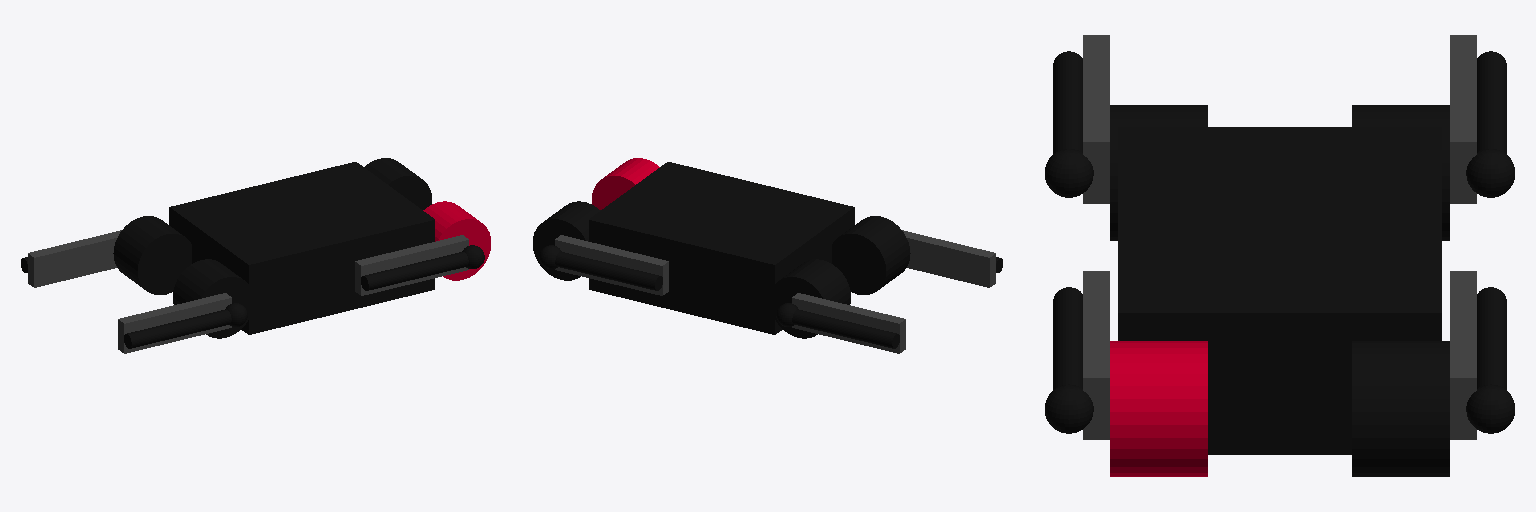
The robot description file, URDF, robot "new_platform":
<?xml version="1.0" ?>
<!-- =================================================================================== -->
<!-- |    This document was autogenerated by xacro from new_platform.urdf.xacro        | -->
<!-- |    EDITING THIS FILE BY HAND IS NOT RECOMMENDED                                 | -->
<!-- =================================================================================== -->
<!-- 
MIT License (modified)

Copyright (c) 2020 Ghost Robotics
Authors:
[author] <[email redacted]>
[author] <[email redacted]>

Permission is hereby granted, free of charge, to any person obtaining a copy
of this **file** (the "Software"), to deal
in the Software without restriction, including without limitation the rights
to use, copy, modify, merge, publish, distribute, sublicense, and/or sell
copies of the Software, and to permit persons to whom the Software is
furnished to do so, subject to the following conditions:

The above copyright notice and this permission notice shall be included in all
copies or substantial portions of the Software.

THE SOFTWARE IS PROVIDED "AS IS", WITHOUT WARRANTY OF ANY KIND, EXPRESS OR
IMPLIED, INCLUDING BUT NOT LIMITED TO THE WARRANTIES OF MERCHANTABILITY,
FITNESS FOR A PARTICULAR PURPOSE AND NONINFRINGEMENT. IN NO EVENT SHALL THE
AUTHORS OR COPYRIGHT [author] ANY CLAIM, DAMAGES OR OTHER
LIABILITY, WHETHER IN AN ACTION OF CONTRACT, TORT OR OTHERWISE, ARISING FROM,
OUT OF OR IN CONNECTION WITH THE SOFTWARE OR THE USE OR OTHER DEALINGS IN THE
SOFTWARE. 
-->
<robot name="new_platform">
  <!-- Define materials -->
  <material name="darkgray">
    <color rgba="0.1 0.1 0.1 1.0"/>
  </material>
  <material name="silver">
    <color rgba="0.3 0.3 0.3 1.0"/>
  </material>
  <material name="red">
    <color rgba="0.8 0.0 0.2 1.0"/>
  </material>
  <!-- Body -->
  <link name="body">
    <visual>
      <origin rpy="0 0 0" xyz="0 0 0"/>
      <geometry>
        <box size="0.3563 0.2627 0.1279"/>
      </geometry>
      <material name="darkgray"/>
    </visual>
    <inertial>
      <mass value="5.8656"/>
      <!-- Uniform box -->
      <!-- <inertia ixx="1/12*${bodyMass}*(${bodyWidth}*${bodyWidth} + ${bodyHeight}*${bodyHeight})"  ixy="0"  ixz="0" iyy="1/12*${bodyMass}*(${bodyLength}*${bodyLength} + ${bodyHeight}*${bodyHeight})" iyz="0" izz="1/12*${bodyMass}*(${bodyLength}*${bodyLength} + ${bodyWidth}*${bodyWidth})"/> -->
      <inertia ixx="0.013581" ixy="3.5039E-06" ixz="0.00015791" iyy="0.039554" iyz="-2.9696E-06" izz="0.031018"/>
    </inertial>
    <!-- Just copy geometry for collision -->
    <collision>
      <origin rpy="0 0 0" xyz="0 0 0"/>
      <geometry>
        <box size="0.3563 0.2627 0.1279"/>
      </geometry>
    </collision>
  </link>
  <!-- Hip motor -->
  <link name="hip0">
    <visual>
      <origin rpy="1.570796326795 0 0" xyz="0 0.028 0"/>
      <geometry>
        <cylinder length="0.08" radius="0.055"/>
      </geometry>
      <material name="darkgray"/>
    </visual>
    <collision>
      <origin rpy="1.570796326795 0 0" xyz="0 0.028 0"/>
      <geometry>
        <cylinder length="0.08" radius="0.055"/>
      </geometry>
    </collision>
    <inertial>
      <mass value="0.575"/>
      <!-- <inertia ixx="1/12*${podMass}*${podLength}*${podLength} + 1/4*${podMass}*${podRadius}*${podRadius}"  ixy="0"  ixz="0" iyy="1/12*${podMass}*${podLength}*${podLength} + 1/4*${podMass}*${podRadius}*${podRadius}" iyz="0" izz="1/2*${podMass}*${podRadius}*$
				{podRadius}" /> -->
      <inertia ixx="0.00066963541" ixy="0" ixz="0" iyy="0.00066963541" iyz="0" izz="0.0008696875"/>
    </inertial>
  </link>
  <!-- Abduction joint. Joint names are: 8 9 10 11 -->
  <joint name="8" type="revolute">
    <parent link="body"/>
    <child link="hip0"/>
    <axis xyz="1 0 0"/>
    <origin xyz="0.2263 0.07 0"/>
    <limit effort="40" lower="-0.707" upper="0.707" velocity="30"/>
    <dynamics damping="0.0" friction="0.0"/>
  </joint>
  <!-- Upper leg -->
  <link name="upper0">
    <visual>
      <origin rpy="0 0 0" xyz="-0.103 -0.022 0"/>
      <geometry>
        <box size="0.206 0.022 0.055"/>
      </geometry>
      <material name="silver"/>
    </visual>
    <collision>
      <origin rpy="0 0 0" xyz="-0.103 -0.022 0"/>
      <geometry>
        <box size="0.206 0.022 0.055"/>
      </geometry>
    </collision>
    <inertial>
      <mass value="2.823"/>
      <inertia ixx="0.0026851" ixy="-6.2823E-05" ixz="-0.0022535" iyy="0.010059" iyz="-8.5258E-05" izz="0.0076466"/>
    </inertial>
  </link>
  <!-- Hip joint. (Motor to upper leg). Joint names are: 0 2 4 6 -->
  <joint name="0" type="revolute">
    <parent link="hip0"/>
    <child link="upper0"/>
    <axis xyz="0 -1 0"/>
    <origin xyz="0 0.10098 0"/>
    <!--  rpy="0 -0.3 0" -->
    <limit effort="40" lower="-6.28318530718" upper="6.28318530718" velocity="30"/>
    <dynamics damping="0.0" friction="0.0"/>
  </joint>
  <!-- Lower leg -->
  <link name="lower0">
    <visual>
      <origin rpy="0 1.570796326795 0" xyz="0.103 0 0"/>
      <geometry>
        <cylinder length="0.206" radius="0.013"/>
      </geometry>
      <material name="darkgray"/>
    </visual>
    <collision>
      <origin rpy="0 1.570796326795 0" xyz="0.103 0 0"/>
      <geometry>
        <cylinder length="0.206" radius="0.013"/>
      </geometry>
    </collision>
    <inertial>
      <mass value="1.0526"/>
      <inertia ixx="0.00093898" ixy="-3.788E-05" ixz="1.0791E-05" iyy="0.00042016" iyz="0.00017591" izz="0.00055413"/>
    </inertial>
  </link>
  <!-- Knee joint. Joint names are: 1 3 5 7 -->
  <joint name="1" type="revolute">
    <parent link="upper0"/>
    <child link="lower0"/>
    <axis xyz="0 1 0"/>
    <origin xyz="-0.206 0 0"/>
    <!--rpy="0 0.5 0"-->
    <limit effort="40" lower="0" upper="3.14159265359" velocity="30"/>
    <dynamics damping="0.0" friction="0.0"/>
  </joint>
  <!-- Toe -->
  <link name="toe0">
    <contact>
      <friction_anchor/>
      <stiffness value="30000.0"/>
      <damping value="1000.0"/>
      <spinning_friction value="0.3"/>
      <lateral_friction value="3.0"/>
    </contact>
    <visual>
      <origin rpy="0 0 0" xyz="0 0 0"/>
      <geometry>
        <sphere radius="0.02"/>
      </geometry>
      <material name="darkgray"/>
    </visual>
    <collision>
      <origin rpy="0 0 0" xyz="0 0 0"/>
      <geometry>
        <sphere radius="0.02"/>
      </geometry>
    </collision>
    <inertial>
      <mass value="0.015"/>
      <inertia ixx="0.000025" ixy="0" ixz="0" iyy="0.000025" iyz="0" izz="0.000025"/>
      <!-- <inertia ixx="2/5*${toeMass}*${toeRadius}*${toeRadius}"  ixy="0"  ixz="0" iyy="2/5*${toeMass}*${toeRadius}*${toeRadius}" iyz="0" izz="2/5*${toeMass}*${toeRadius}*${toeRadius}" /> -->
    </inertial>
  </link>
  <joint name="jtoe0" type="fixed">
    <parent link="lower0"/>
    <child link="toe0"/>
    <origin xyz="0.206 0 -0.0"/>
    <dynamics damping="0.0" friction="0.0"/>
  </joint>
  <!-- Hip motor -->
  <link name="hip1">
    <visual>
      <origin rpy="1.570796326795 0 0" xyz="0 0.028 0"/>
      <geometry>
        <cylinder length="0.08" radius="0.055"/>
      </geometry>
      <material name="darkgray"/>
    </visual>
    <collision>
      <origin rpy="1.570796326795 0 0" xyz="0 0.028 0"/>
      <geometry>
        <cylinder length="0.08" radius="0.055"/>
      </geometry>
    </collision>
    <inertial>
      <mass value="0.575"/>
      <!-- <inertia ixx="1/12*${podMass}*${podLength}*${podLength} + 1/4*${podMass}*${podRadius}*${podRadius}"  ixy="0"  ixz="0" iyy="1/12*${podMass}*${podLength}*${podLength} + 1/4*${podMass}*${podRadius}*${podRadius}" iyz="0" izz="1/2*${podMass}*${podRadius}*$
				{podRadius}" /> -->
      <inertia ixx="0.00066963541" ixy="0" ixz="0" iyy="0.00066963541" iyz="0" izz="0.0008696875"/>
    </inertial>
  </link>
  <!-- Abduction joint. Joint names are: 8 9 10 11 -->
  <joint name="9" type="revolute">
    <parent link="body"/>
    <child link="hip1"/>
    <axis xyz="1 0 0"/>
    <origin xyz="-0.2263 0.07 0"/>
    <limit effort="40" lower="-0.707" upper="0.707" velocity="30"/>
    <dynamics damping="0.0" friction="0.0"/>
  </joint>
  <!-- Upper leg -->
  <link name="upper1">
    <visual>
      <origin rpy="0 0 0" xyz="-0.103 -0.022 0"/>
      <geometry>
        <box size="0.206 0.022 0.055"/>
      </geometry>
      <material name="silver"/>
    </visual>
    <collision>
      <origin rpy="0 0 0" xyz="-0.103 -0.022 0"/>
      <geometry>
        <box size="0.206 0.022 0.055"/>
      </geometry>
    </collision>
    <inertial>
      <mass value="2.823"/>
      <inertia ixx="0.0026851" ixy="-6.2823E-05" ixz="-0.0022535" iyy="0.010059" iyz="-8.5258E-05" izz="0.0076466"/>
    </inertial>
  </link>
  <!-- Hip joint. (Motor to upper leg). Joint names are: 0 2 4 6 -->
  <joint name="2" type="revolute">
    <parent link="hip1"/>
    <child link="upper1"/>
    <axis xyz="0 -1 0"/>
    <origin xyz="0 0.10098 0"/>
    <!--  rpy="0 -0.3 0" -->
    <limit effort="40" lower="-6.28318530718" upper="6.28318530718" velocity="30"/>
    <dynamics damping="0.0" friction="0.0"/>
  </joint>
  <!-- Lower leg -->
  <link name="lower1">
    <visual>
      <origin rpy="0 1.570796326795 0" xyz="0.103 0 0"/>
      <geometry>
        <cylinder length="0.206" radius="0.013"/>
      </geometry>
      <material name="darkgray"/>
    </visual>
    <collision>
      <origin rpy="0 1.570796326795 0" xyz="0.103 0 0"/>
      <geometry>
        <cylinder length="0.206" radius="0.013"/>
      </geometry>
    </collision>
    <inertial>
      <mass value="1.0526"/>
      <inertia ixx="0.00093898" ixy="-3.788E-05" ixz="1.0791E-05" iyy="0.00042016" iyz="0.00017591" izz="0.00055413"/>
    </inertial>
  </link>
  <!-- Knee joint. Joint names are: 1 3 5 7 -->
  <joint name="3" type="revolute">
    <parent link="upper1"/>
    <child link="lower1"/>
    <axis xyz="0 1 0"/>
    <origin xyz="-0.206 0 0"/>
    <!--rpy="0 0.5 0"-->
    <limit effort="40" lower="0" upper="3.14159265359" velocity="30"/>
    <dynamics damping="0.0" friction="0.0"/>
  </joint>
  <!-- Toe -->
  <link name="toe1">
    <contact>
      <friction_anchor/>
      <stiffness value="30000.0"/>
      <damping value="1000.0"/>
      <spinning_friction value="0.3"/>
      <lateral_friction value="3.0"/>
    </contact>
    <visual>
      <origin rpy="0 0 0" xyz="0 0 0"/>
      <geometry>
        <sphere radius="0.02"/>
      </geometry>
      <material name="darkgray"/>
    </visual>
    <collision>
      <origin rpy="0 0 0" xyz="0 0 0"/>
      <geometry>
        <sphere radius="0.02"/>
      </geometry>
    </collision>
    <inertial>
      <mass value="0.015"/>
      <inertia ixx="0.000025" ixy="0" ixz="0" iyy="0.000025" iyz="0" izz="0.000025"/>
      <!-- <inertia ixx="2/5*${toeMass}*${toeRadius}*${toeRadius}"  ixy="0"  ixz="0" iyy="2/5*${toeMass}*${toeRadius}*${toeRadius}" iyz="0" izz="2/5*${toeMass}*${toeRadius}*${toeRadius}" /> -->
    </inertial>
  </link>
  <joint name="jtoe1" type="fixed">
    <parent link="lower1"/>
    <child link="toe1"/>
    <origin xyz="0.206 0 -0.0"/>
    <dynamics damping="0.0" friction="0.0"/>
  </joint>
  <!-- Hip motor -->
  <link name="hip2">
    <visual>
      <origin rpy="1.570796326795 0 0" xyz="0 -0.028 0"/>
      <geometry>
        <cylinder length="0.08" radius="0.055"/>
      </geometry>
      <material name="red"/>
    </visual>
    <collision>
      <origin rpy="1.570796326795 0 0" xyz="0 -0.028 0"/>
      <geometry>
        <cylinder length="0.08" radius="0.055"/>
      </geometry>
    </collision>
    <inertial>
      <mass value="0.575"/>
      <!-- <inertia ixx="1/12*${podMass}*${podLength}*${podLength} + 1/4*${podMass}*${podRadius}*${podRadius}"  ixy="0"  ixz="0" iyy="1/12*${podMass}*${podLength}*${podLength} + 1/4*${podMass}*${podRadius}*${podRadius}" iyz="0" izz="1/2*${podMass}*${podRadius}*$
				{podRadius}" /> -->
      <inertia ixx="0.00066963541" ixy="0" ixz="0" iyy="0.00066963541" iyz="0" izz="0.0008696875"/>
    </inertial>
  </link>
  <!-- Abduction joint. Joint names are: 8 9 10 11 -->
  <joint name="10" type="revolute">
    <parent link="body"/>
    <child link="hip2"/>
    <axis xyz="1 0 0"/>
    <origin xyz="0.2263 -0.07 0"/>
    <limit effort="40" lower="-0.707" upper="0.707" velocity="30"/>
    <dynamics damping="0.0" friction="0.0"/>
  </joint>
  <!-- Upper leg -->
  <link name="upper2">
    <visual>
      <origin rpy="0 0 0" xyz="-0.103 0.022 0"/>
      <geometry>
        <box size="0.206 0.022 0.055"/>
      </geometry>
      <material name="silver"/>
    </visual>
    <collision>
      <origin rpy="0 0 0" xyz="-0.103 0.022 0"/>
      <geometry>
        <box size="0.206 0.022 0.055"/>
      </geometry>
    </collision>
    <inertial>
      <mass value="2.823"/>
      <inertia ixx="0.0026851" ixy="-6.2823E-05" ixz="-0.0022535" iyy="0.010059" iyz="-8.5258E-05" izz="0.0076466"/>
    </inertial>
  </link>
  <!-- Hip joint. (Motor to upper leg). Joint names are: 0 2 4 6 -->
  <joint name="4" type="revolute">
    <parent link="hip2"/>
    <child link="upper2"/>
    <axis xyz="0 -1 0"/>
    <origin xyz="0 -0.10098 0"/>
    <!--  rpy="0 -0.3 0" -->
    <limit effort="40" lower="-6.28318530718" upper="6.28318530718" velocity="30"/>
    <dynamics damping="0.0" friction="0.0"/>
  </joint>
  <!-- Lower leg -->
  <link name="lower2">
    <visual>
      <origin rpy="0 1.570796326795 0" xyz="0.103 0 0"/>
      <geometry>
        <cylinder length="0.206" radius="0.013"/>
      </geometry>
      <material name="darkgray"/>
    </visual>
    <collision>
      <origin rpy="0 1.570796326795 0" xyz="0.103 0 0"/>
      <geometry>
        <cylinder length="0.206" radius="0.013"/>
      </geometry>
    </collision>
    <inertial>
      <mass value="1.0526"/>
      <inertia ixx="0.00093898" ixy="-3.788E-05" ixz="1.0791E-05" iyy="0.00042016" iyz="0.00017591" izz="0.00055413"/>
    </inertial>
  </link>
  <!-- Knee joint. Joint names are: 1 3 5 7 -->
  <joint name="5" type="revolute">
    <parent link="upper2"/>
    <child link="lower2"/>
    <axis xyz="0 1 0"/>
    <origin xyz="-0.206 0 0"/>
    <!--rpy="0 0.5 0"-->
    <limit effort="40" lower="0" upper="3.14159265359" velocity="30"/>
    <dynamics damping="0.0" friction="0.0"/>
  </joint>
  <!-- Toe -->
  <link name="toe2">
    <contact>
      <friction_anchor/>
      <stiffness value="30000.0"/>
      <damping value="1000.0"/>
      <spinning_friction value="0.3"/>
      <lateral_friction value="3.0"/>
    </contact>
    <visual>
      <origin rpy="0 0 0" xyz="0 0 0"/>
      <geometry>
        <sphere radius="0.02"/>
      </geometry>
      <material name="darkgray"/>
    </visual>
    <collision>
      <origin rpy="0 0 0" xyz="0 0 0"/>
      <geometry>
        <sphere radius="0.02"/>
      </geometry>
    </collision>
    <inertial>
      <mass value="0.015"/>
      <inertia ixx="0.000025" ixy="0" ixz="0" iyy="0.000025" iyz="0" izz="0.000025"/>
      <!-- <inertia ixx="2/5*${toeMass}*${toeRadius}*${toeRadius}"  ixy="0"  ixz="0" iyy="2/5*${toeMass}*${toeRadius}*${toeRadius}" iyz="0" izz="2/5*${toeMass}*${toeRadius}*${toeRadius}" /> -->
    </inertial>
  </link>
  <joint name="jtoe2" type="fixed">
    <parent link="lower2"/>
    <child link="toe2"/>
    <origin xyz="0.206 0 -0.0"/>
    <dynamics damping="0.0" friction="0.0"/>
  </joint>
  <!-- Hip motor -->
  <link name="hip3">
    <visual>
      <origin rpy="1.570796326795 0 0" xyz="0 -0.028 0"/>
      <geometry>
        <cylinder length="0.08" radius="0.055"/>
      </geometry>
      <material name="darkgray"/>
    </visual>
    <collision>
      <origin rpy="1.570796326795 0 0" xyz="0 -0.028 0"/>
      <geometry>
        <cylinder length="0.08" radius="0.055"/>
      </geometry>
    </collision>
    <inertial>
      <mass value="0.575"/>
      <!-- <inertia ixx="1/12*${podMass}*${podLength}*${podLength} + 1/4*${podMass}*${podRadius}*${podRadius}"  ixy="0"  ixz="0" iyy="1/12*${podMass}*${podLength}*${podLength} + 1/4*${podMass}*${podRadius}*${podRadius}" iyz="0" izz="1/2*${podMass}*${podRadius}*$
				{podRadius}" /> -->
      <inertia ixx="0.00066963541" ixy="0" ixz="0" iyy="0.00066963541" iyz="0" izz="0.0008696875"/>
    </inertial>
  </link>
  <!-- Abduction joint. Joint names are: 8 9 10 11 -->
  <joint name="11" type="revolute">
    <parent link="body"/>
    <child link="hip3"/>
    <axis xyz="1 0 0"/>
    <origin xyz="-0.2263 -0.07 0"/>
    <limit effort="40" lower="-0.707" upper="0.707" velocity="30"/>
    <dynamics damping="0.0" friction="0.0"/>
  </joint>
  <!-- Upper leg -->
  <link name="upper3">
    <visual>
      <origin rpy="0 0 0" xyz="-0.103 0.022 0"/>
      <geometry>
        <box size="0.206 0.022 0.055"/>
      </geometry>
      <material name="silver"/>
    </visual>
    <collision>
      <origin rpy="0 0 0" xyz="-0.103 0.022 0"/>
      <geometry>
        <box size="0.206 0.022 0.055"/>
      </geometry>
    </collision>
    <inertial>
      <mass value="2.823"/>
      <inertia ixx="0.0026851" ixy="-6.2823E-05" ixz="-0.0022535" iyy="0.010059" iyz="-8.5258E-05" izz="0.0076466"/>
    </inertial>
  </link>
  <!-- Hip joint. (Motor to upper leg). Joint names are: 0 2 4 6 -->
  <joint name="6" type="revolute">
    <parent link="hip3"/>
    <child link="upper3"/>
    <axis xyz="0 -1 0"/>
    <origin xyz="0 -0.10098 0"/>
    <!--  rpy="0 -0.3 0" -->
    <limit effort="40" lower="-6.28318530718" upper="6.28318530718" velocity="30"/>
    <dynamics damping="0.0" friction="0.0"/>
  </joint>
  <!-- Lower leg -->
  <link name="lower3">
    <visual>
      <origin rpy="0 1.570796326795 0" xyz="0.103 0 0"/>
      <geometry>
        <cylinder length="0.206" radius="0.013"/>
      </geometry>
      <material name="darkgray"/>
    </visual>
    <collision>
      <origin rpy="0 1.570796326795 0" xyz="0.103 0 0"/>
      <geometry>
        <cylinder length="0.206" radius="0.013"/>
      </geometry>
    </collision>
    <inertial>
      <mass value="1.0526"/>
      <inertia ixx="0.00093898" ixy="-3.788E-05" ixz="1.0791E-05" iyy="0.00042016" iyz="0.00017591" izz="0.00055413"/>
    </inertial>
  </link>
  <!-- Knee joint. Joint names are: 1 3 5 7 -->
  <joint name="7" type="revolute">
    <parent link="upper3"/>
    <child link="lower3"/>
    <axis xyz="0 1 0"/>
    <origin xyz="-0.206 0 0"/>
    <!--rpy="0 0.5 0"-->
    <limit effort="40" lower="0" upper="3.14159265359" velocity="30"/>
    <dynamics damping="0.0" friction="0.0"/>
  </joint>
  <!-- Toe -->
  <link name="toe3">
    <contact>
      <friction_anchor/>
      <stiffness value="30000.0"/>
      <damping value="1000.0"/>
      <spinning_friction value="0.3"/>
      <lateral_friction value="3.0"/>
    </contact>
    <visual>
      <origin rpy="0 0 0" xyz="0 0 0"/>
      <geometry>
        <sphere radius="0.02"/>
      </geometry>
      <material name="darkgray"/>
    </visual>
    <collision>
      <origin rpy="0 0 0" xyz="0 0 0"/>
      <geometry>
        <sphere radius="0.02"/>
      </geometry>
    </collision>
    <inertial>
      <mass value="0.015"/>
      <inertia ixx="0.000025" ixy="0" ixz="0" iyy="0.000025" iyz="0" izz="0.000025"/>
      <!-- <inertia ixx="2/5*${toeMass}*${toeRadius}*${toeRadius}"  ixy="0"  ixz="0" iyy="2/5*${toeMass}*${toeRadius}*${toeRadius}" iyz="0" izz="2/5*${toeMass}*${toeRadius}*${toeRadius}" /> -->
    </inertial>
  </link>
  <joint name="jtoe3" type="fixed">
    <parent link="lower3"/>
    <child link="toe3"/>
    <origin xyz="0.206 0 -0.0"/>
    <dynamics damping="0.0" friction="0.0"/>
  </joint>
</robot>

--- Render facts (derived) ---
Views: 3 orthographic renders of the robot side by side, from view 1: azimuth 30°, elevation 25°; view 2: azimuth 150°, elevation 25°; view 3: azimuth 270°, elevation 25°.
Model new_platform with 17 links and 16 joints (12 revolute, 4 fixed), rooted at body, posed every joint at zero.
Links seen in each view (by area): view 1: body, hip1, upper1, hip3, upper2, upper3, hip2, lower3, lower2, hip0; view 2: body, hip3, upper3, hip1, upper0, upper1, hip0, lower1, lower0, hip2; view 3: body, hip0, hip2, upper0, upper2, upper1, upper3, hip1, hip3, lower1, lower3, lower0 (+5 smaller).
Link boxes in pixels (x1,y1,x2,y2): body: [169, 162, 434, 334]; hip1: [113, 216, 191, 294]; upper1: [28, 230, 121, 287]; hip3: [173, 259, 253, 338]; upper2: [355, 235, 468, 295]; upper3: [118, 293, 231, 353]; hip2: [423, 201, 490, 280]; lower3: [124, 309, 231, 348]; lower2: [361, 252, 468, 290]; hip0: [364, 158, 431, 209]; body: [589, 162, 854, 334]; hip3: [832, 216, 910, 294]; upper3: [902, 230, 995, 287]; hip1: [770, 259, 850, 338]; upper0: [555, 235, 668, 295]; upper1: [792, 293, 905, 353]; hip0: [533, 201, 600, 280]; lower1: [792, 309, 899, 348]; lower0: [555, 252, 662, 290]; hip2: [592, 158, 659, 209]; body: [1118, 127, 1441, 454]; hip0: [1352, 341, 1449, 476]; hip2: [1110, 341, 1207, 476]; upper0: [1450, 271, 1476, 439]; upper2: [1083, 271, 1109, 439]; upper1: [1450, 35, 1476, 203]; upper3: [1083, 35, 1109, 203]; hip1: [1352, 105, 1449, 240]; hip3: [1110, 105, 1207, 240]; lower1: [1477, 51, 1506, 153]; lower3: [1053, 51, 1082, 153]; lower0: [1477, 287, 1506, 389].
Bounding box of the posed robot: 0.7136 × 0.382 × 0.1279 m (x, y, z).
Geometry: primitives only (box / cylinder / sphere), no mesh files.